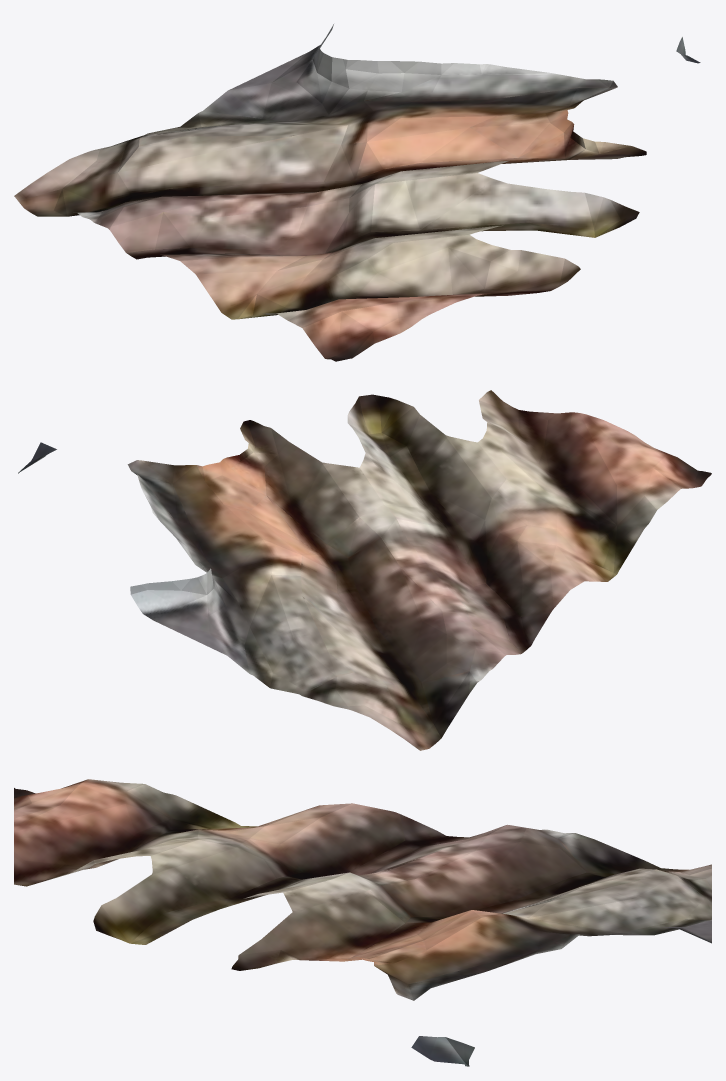
3 renders of one model, top to bottom at view 1: azimuth 30°, elevation 25°; view 2: azimuth 150°, elevation 25°; view 3: azimuth 270°, elevation 25°, orthographic. The views are drawn at different scales.
Size of the model in its own units: 0.8374 by 0.1552 by 0.8374.
Materials: 2 (2 with a texture image).
